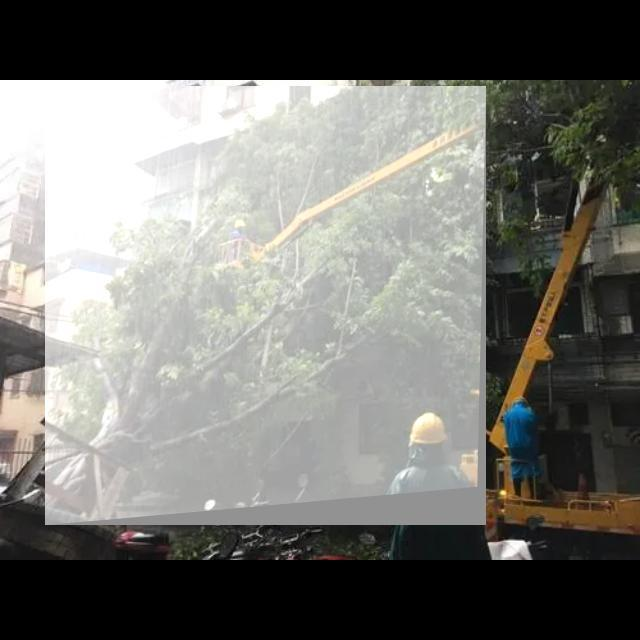fallen_tree: (45, 86, 487, 526)
